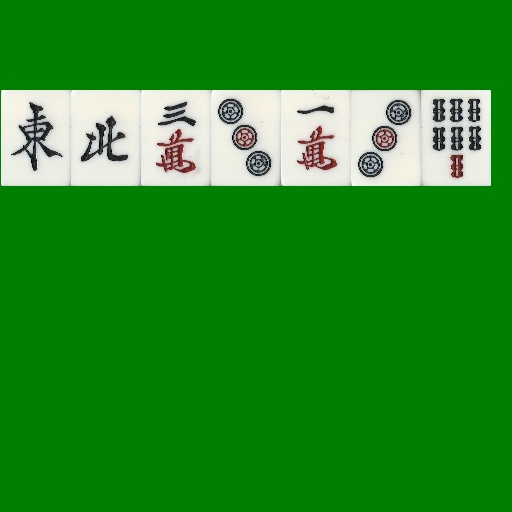1m: (281, 90, 351, 186)
3m: (141, 90, 211, 186)
3p: (211, 90, 281, 186), (351, 90, 421, 186)
7s: (421, 90, 491, 186)
east: (1, 90, 71, 186)
north: (71, 90, 141, 186)
